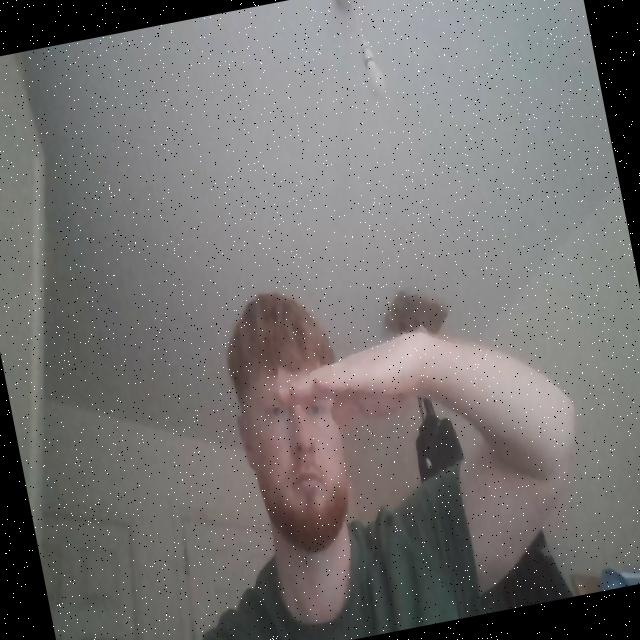papper: (271, 330, 438, 436)
